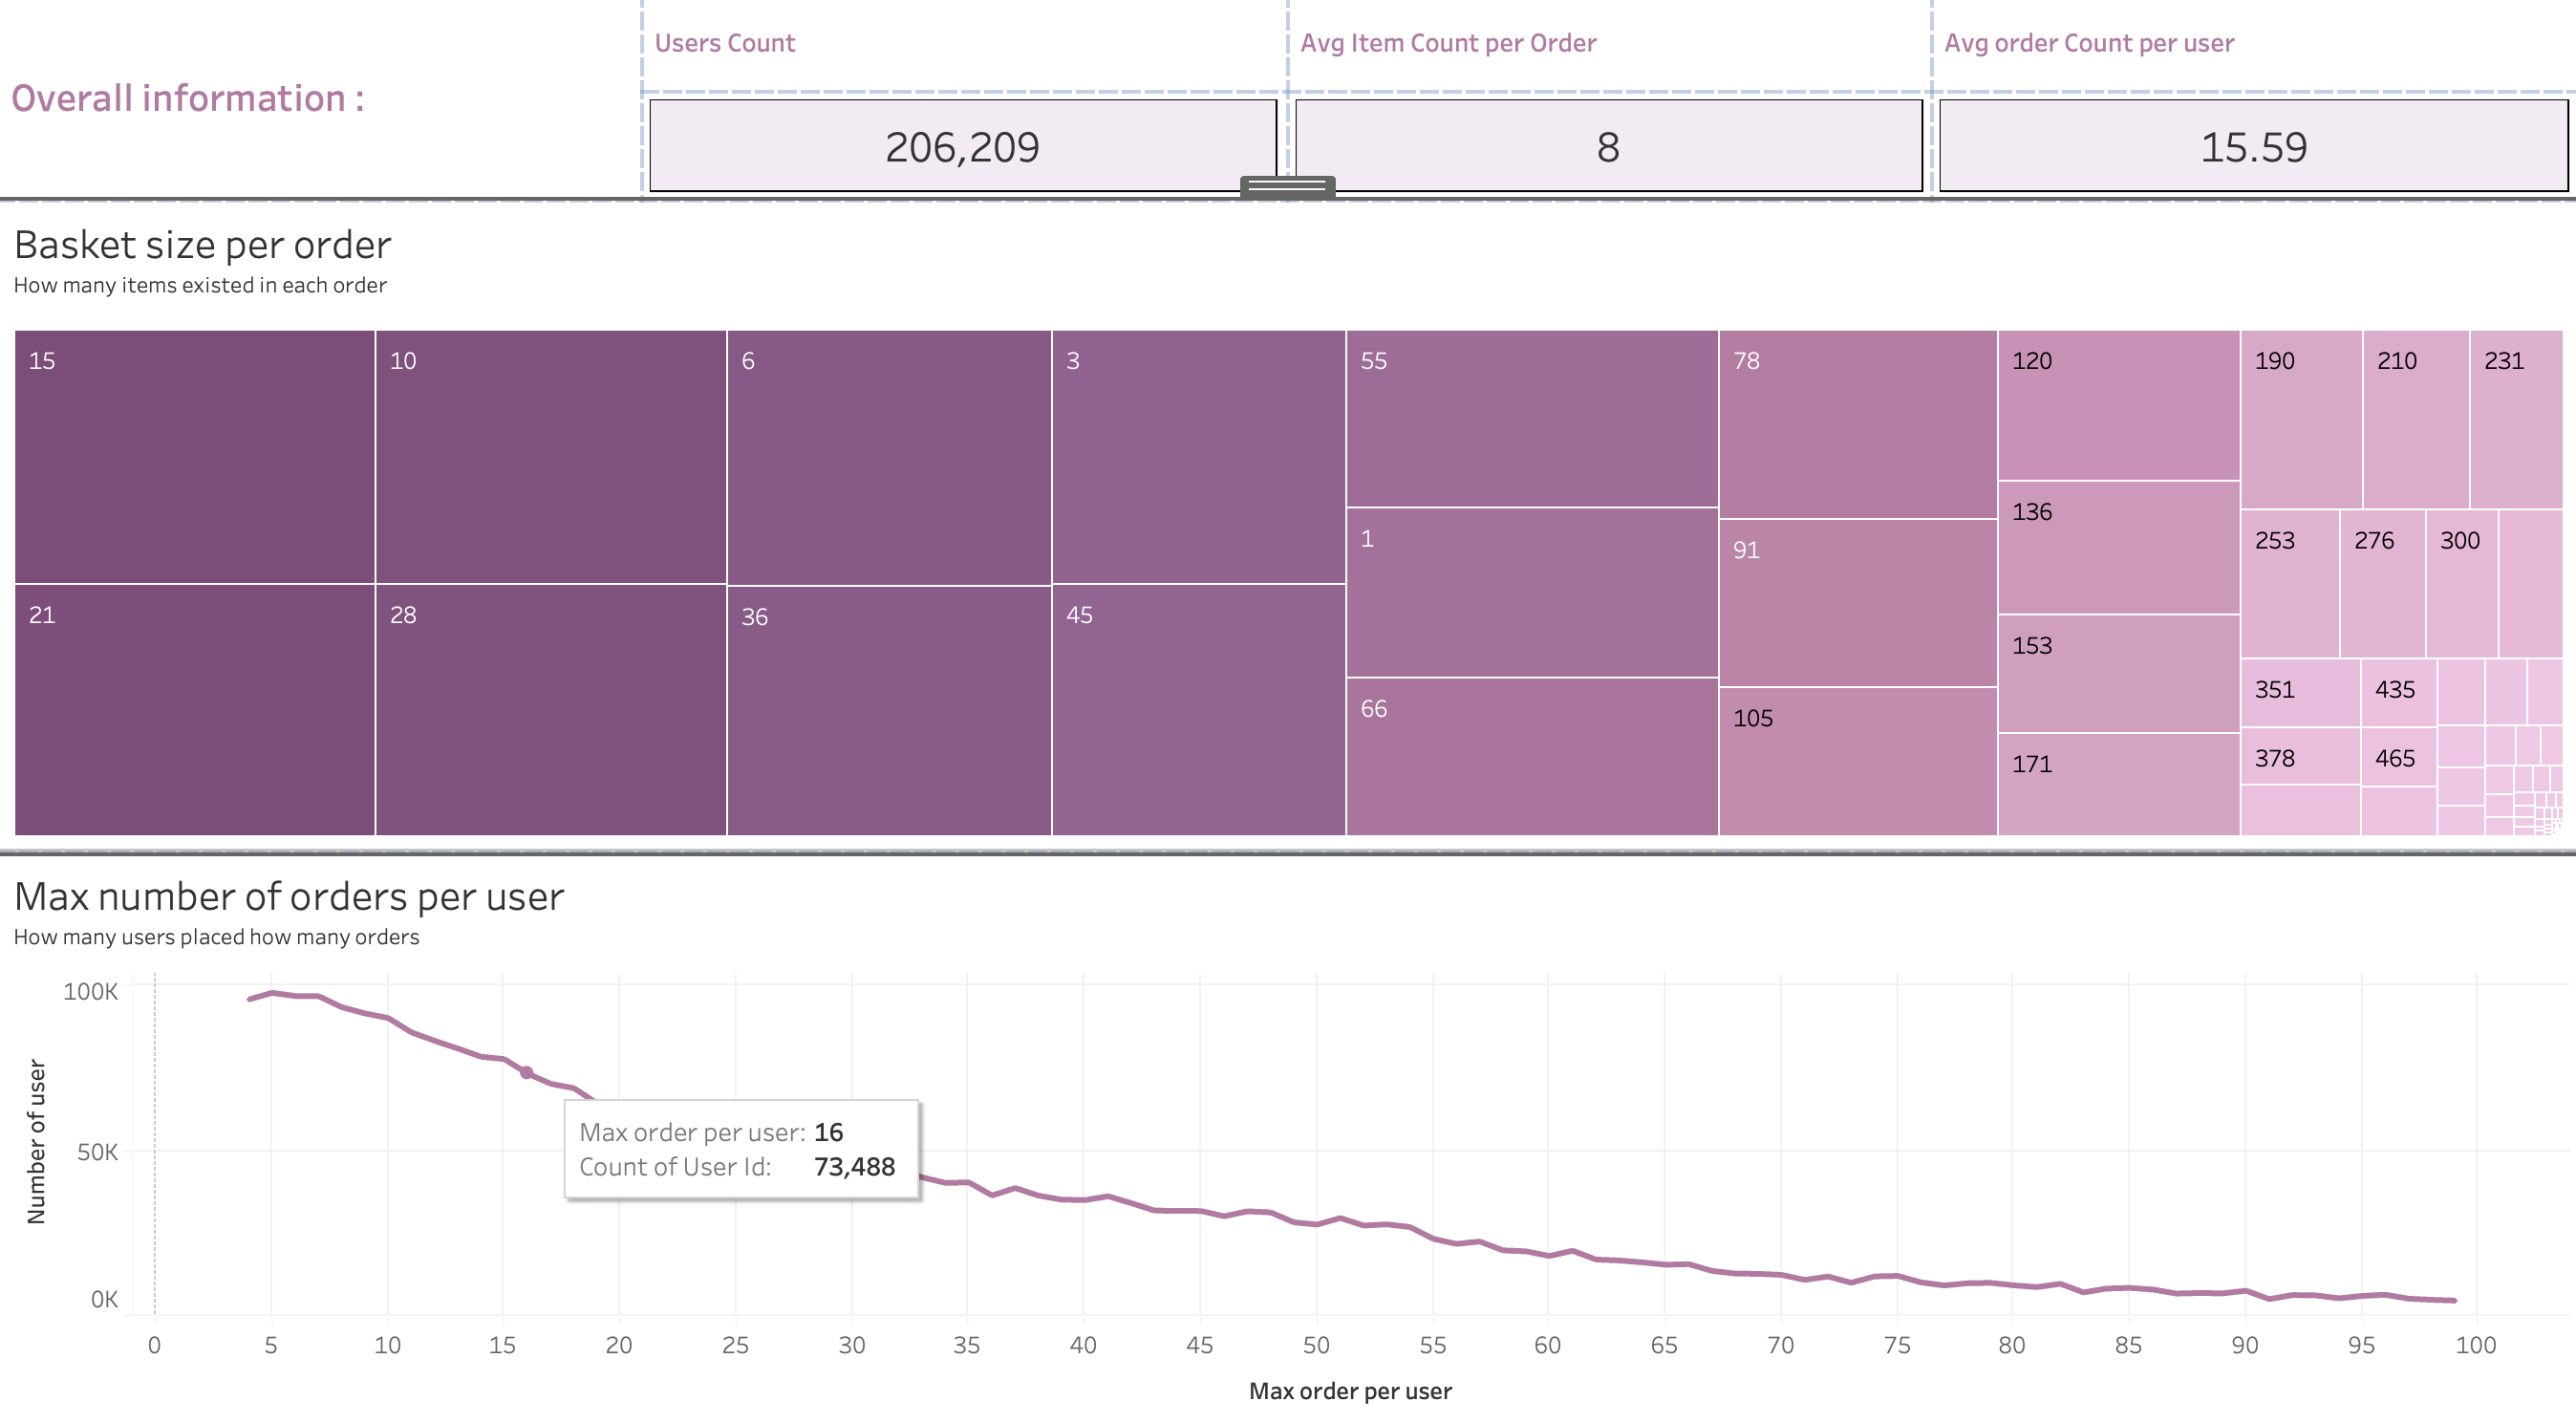

This screenshot's page, from the dashboard's own definition file:
{"tool":"tableau","page":{"name":"Detail of Users","canvas":[1366,768],"ordinal":2},"visuals":[{"type":"text","box":[8,8,337.5,110]},{"type":"text","box":[345.5,8,337.5,53]},{"type":"text","box":[683,8,337.5,53]},{"type":"text","box":[1020.4,8,337.6,53]},{"type":"worksheet","title":"count user id","mark":"Automatic","box":[345.5,61,337.5,57]},{"type":"worksheet","title":"avg basket size","mark":"Automatic","box":[683,61,337.5,57]},{"type":"worksheet","title":"avg order per user","mark":"Automatic","box":[1020.4,61,337.6,57]},{"type":"worksheet","title":"tr avg basket size","mark":"Automatic","box":[8,118,1350,341]},{"type":"worksheet","title":"max order per user","mark":"Automatic","rows":["user_id"],"cols":["Calculation_774337726313029632"],"box":[8,459,1350,301]}]}

Visuals, with their boxes in screenshot pixels (x1, y1, x2, y2), scaled from the page's 1366x768 canvas onto the 2576x1423 screenshot:
text: [x1=15, y1=15, x2=652, y2=219]
text: [x1=652, y1=15, x2=1288, y2=113]
text: [x1=1288, y1=15, x2=1924, y2=113]
text: [x1=1924, y1=15, x2=2561, y2=113]
"count user id" worksheet: [x1=652, y1=113, x2=1288, y2=219]
"avg basket size" worksheet: [x1=1288, y1=113, x2=1924, y2=219]
"avg order per user" worksheet: [x1=1924, y1=113, x2=2561, y2=219]
"tr avg basket size" worksheet: [x1=15, y1=219, x2=2561, y2=851]
"max order per user" worksheet: [x1=15, y1=851, x2=2561, y2=1408]
